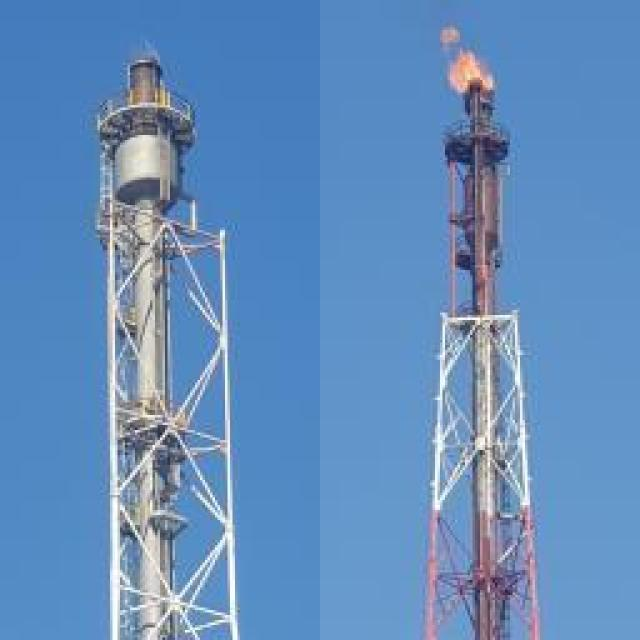fire: (445, 51, 493, 95), (441, 28, 458, 55)
